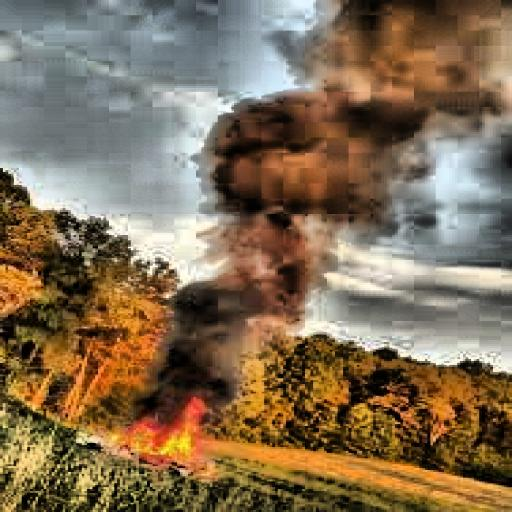fire: (101, 378, 226, 472)
